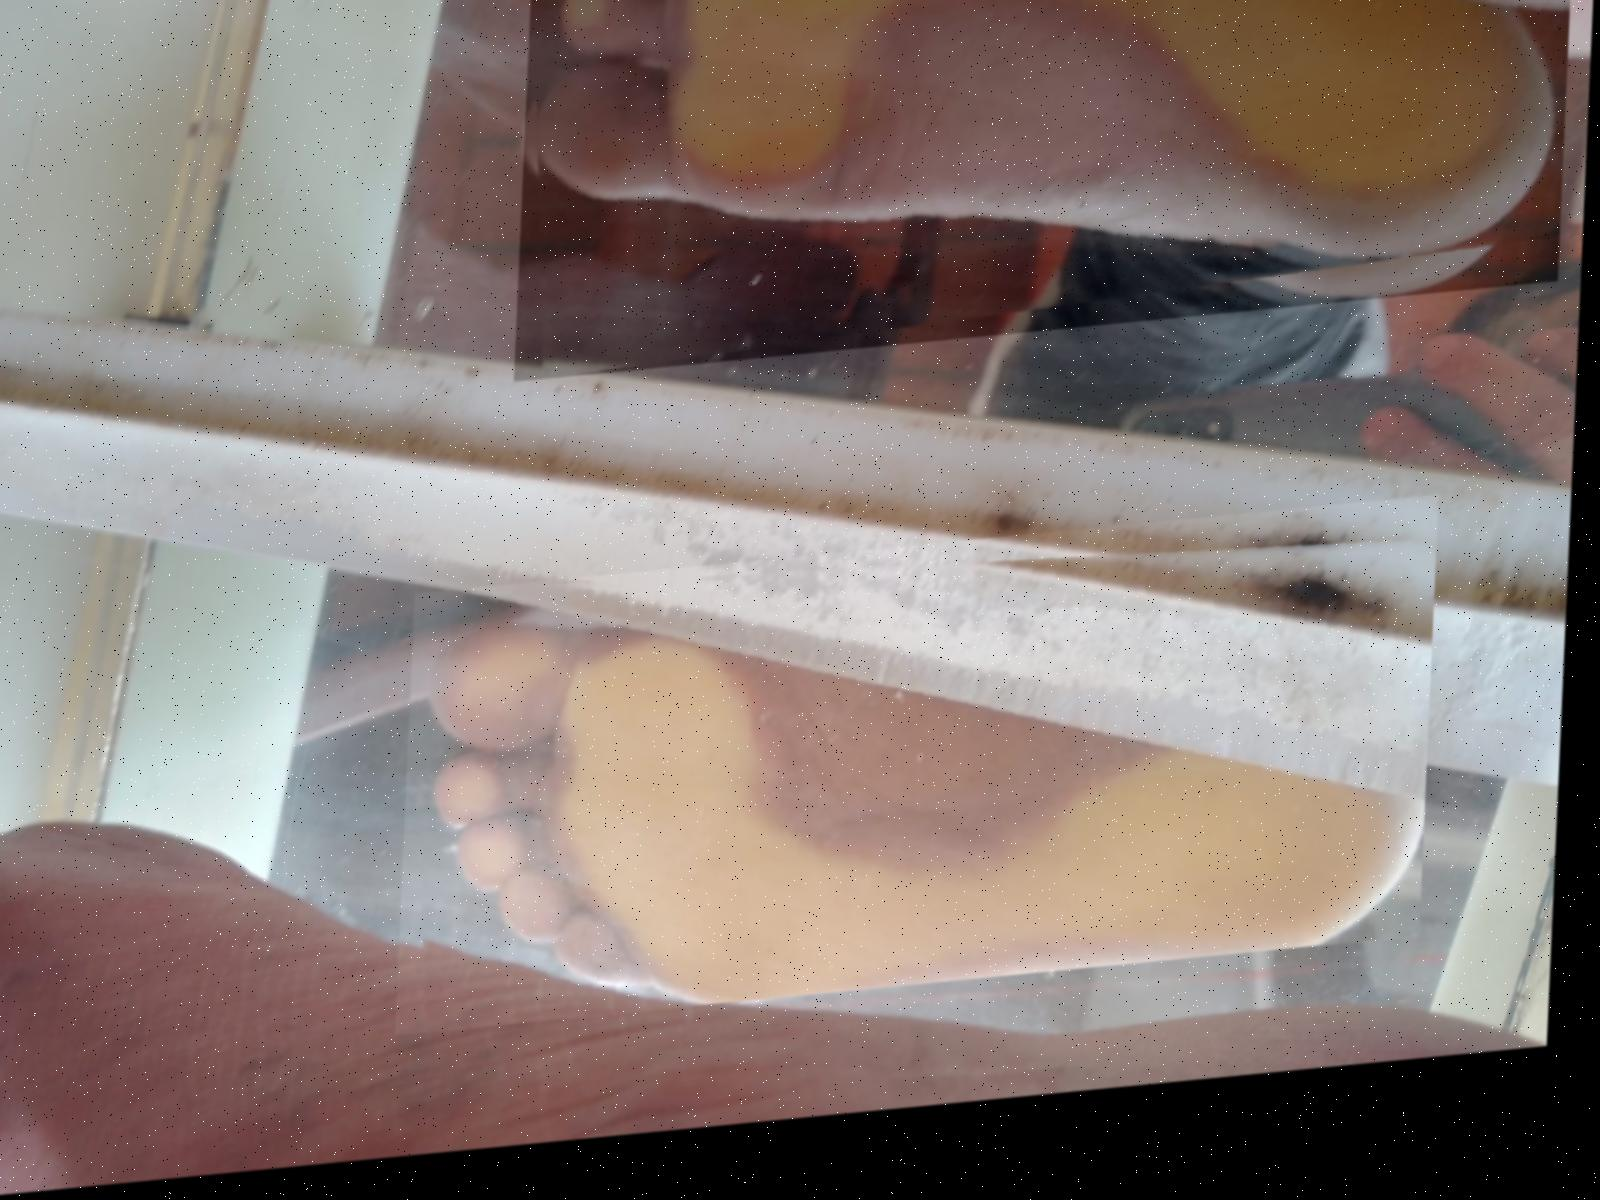Present: (406, 526, 1445, 1046), (518, 0, 1577, 393)
